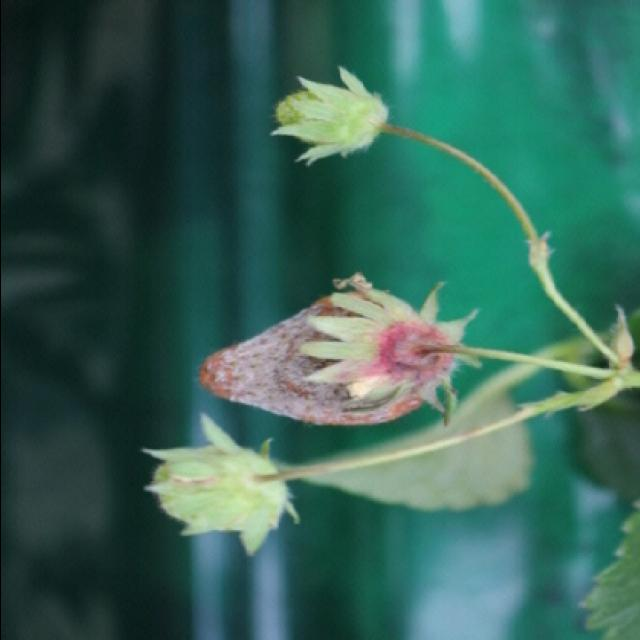Gray Mold: (194, 273, 471, 429)
